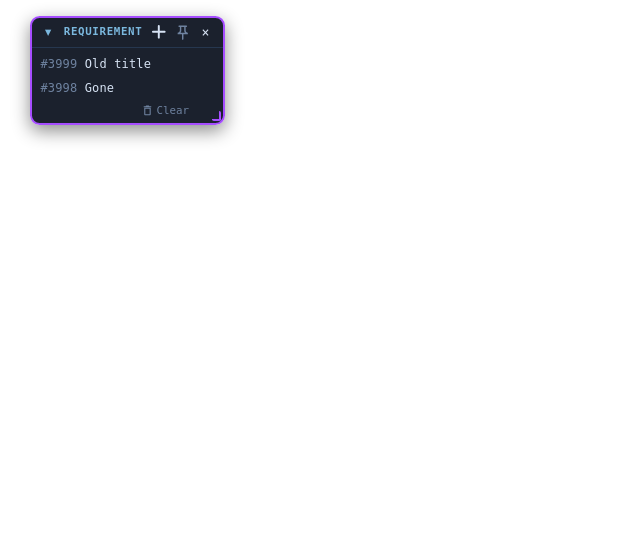
Test: Requirement Filer (req #3811) › lists what it filed; a click brings one back into the editor, read fresh (req #3830)
Step 1. Click the button with test id "requirement-filer-item-3999" → (96, 64), box [40,57,151,71]
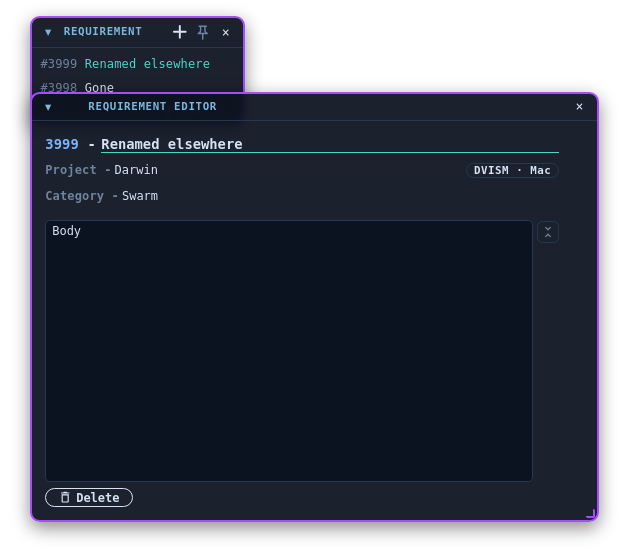
Result: the link with test id "requirement-editor-id-link" reads "3999" at [45,136,79,152]
Result: the field with test id "requirement-editor-field-title" holds "Renamed elsewhere"
Result: the dropdown with test id "requirement-editor-field-project" shows "Darwin" at [115,162,195,180]
Step 2. Replace the text in the field with test id "requirement-editor-field-title" with "Renamed here" → (330, 144), box [101,136,559,153]
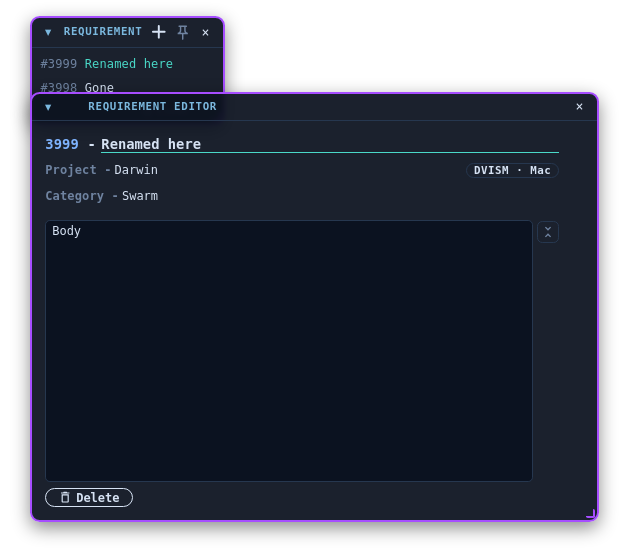
Result: the button with test id "requirement-filer-item-3999" reads "#3999 Renamed here" at [40,57,173,71]
Step 3. Click the button with test id "requirement-filer-item-3998" → (77, 88), box [40,81,114,95]
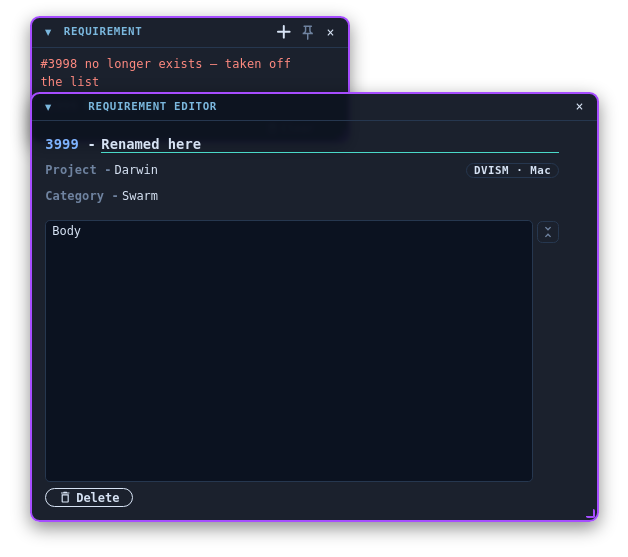
Result: the link with test id "requirement-editor-id-link" reads "3999" at [45,136,79,152]
Result: the text with test id "requirement-filer-note" shows "#3998 no longer exists" at [40,57,291,89]
Result: the button with test id "requirement-filer-item-3998" is gone
